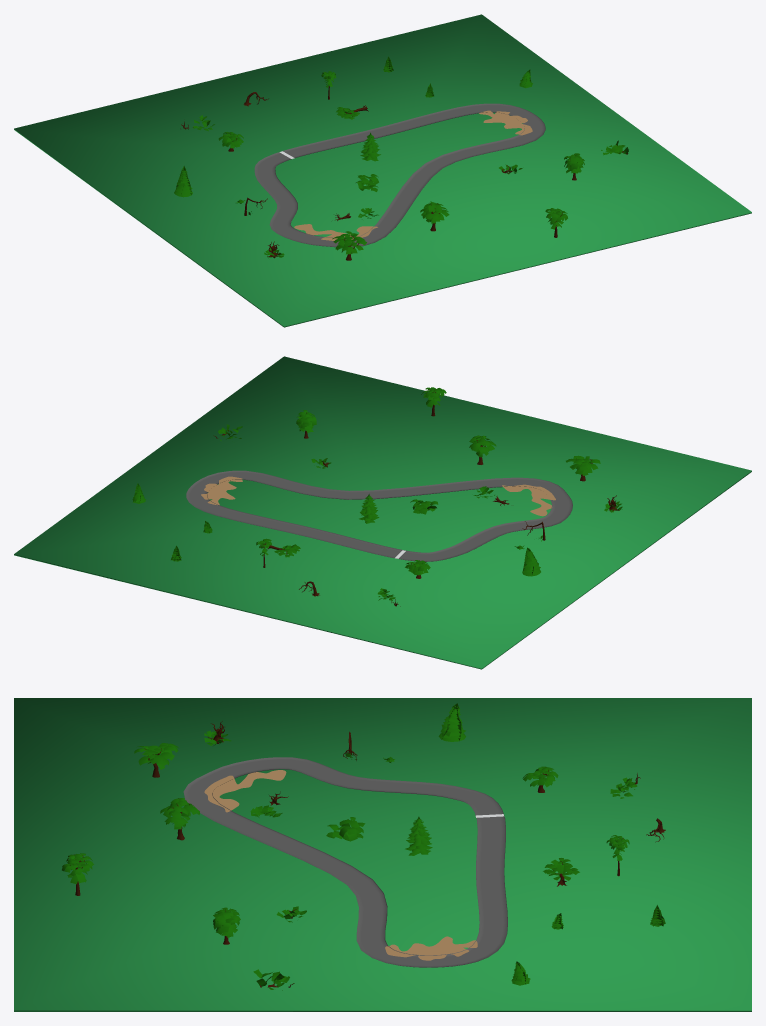
The model's file is map1_zoned.dae.
The picture shows the model from 3 angles, top to bottom: view 1: azimuth 30°, elevation 25°; view 2: azimuth 150°, elevation 25°; view 3: azimuth 270°, elevation 25°; orthographic projection. The views are drawn at different scales.
Parts seen in each view (by area): view 1: Polygone001, Extrusion001, Ligne001, Ligne002; view 2: Polygone001, Extrusion001, Ligne002, Ligne001; view 3: Polygone001, Extrusion001, Ligne002, Ligne001, pine_2a, pine_1a, elka_7a, elka_13, pine_4a, pine_5a, pinebroke1.
Boxes of the visible parts, bbox=[...] form: Polygone001: bbox=[14, 14, 751, 327]; Extrusion001: bbox=[254, 103, 545, 247]; Ligne001: bbox=[479, 110, 532, 135]; Ligne002: bbox=[294, 224, 377, 240]; Polygone001: bbox=[14, 356, 751, 669]; Extrusion001: bbox=[186, 470, 572, 561]; Ligne002: bbox=[502, 484, 555, 516]; Ligne001: bbox=[201, 476, 242, 505]; Polygone001: bbox=[14, 698, 751, 1011]; Extrusion001: bbox=[183, 757, 507, 967]; Ligne002: bbox=[204, 770, 286, 812]; Ligne001: bbox=[385, 936, 477, 960]; pine_2a: bbox=[160, 798, 199, 829]; pine_1a: bbox=[134, 743, 178, 769]; elka_7a: bbox=[405, 816, 432, 855]; elka_13: bbox=[438, 703, 465, 741]; pine_4a: bbox=[62, 853, 93, 884]; pine_5a: bbox=[213, 907, 240, 937]; pinebroke1: bbox=[326, 817, 365, 841].
Bounding box in the file's own units: 180 × 180 × 18.43.
